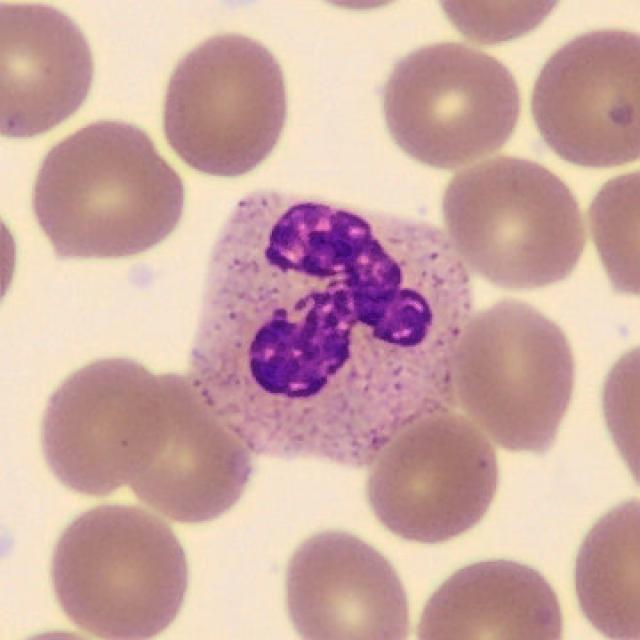Neutrofilo segmentado: (188, 194, 473, 469)
